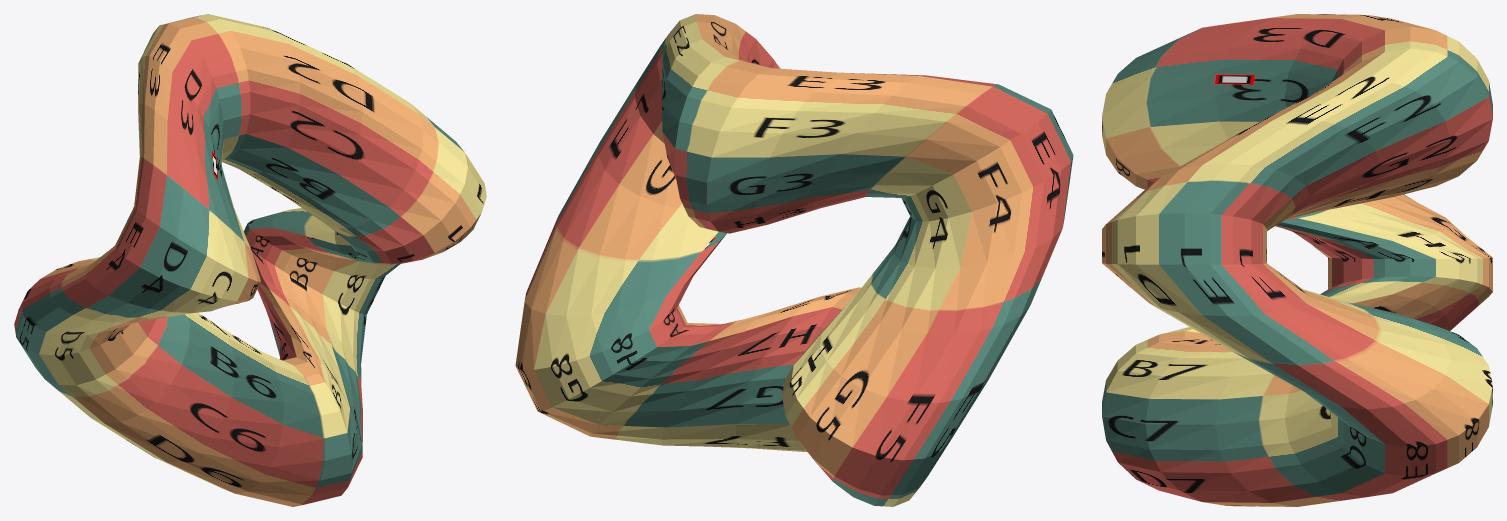
3 views of the same model, side by side, from view 1: azimuth 30°, elevation 25°; view 2: azimuth 150°, elevation 25°; view 3: azimuth 270°, elevation 25° (orthographic). The views are drawn at different scales.
Parts seen in each view (by area): view 1: Node-Mesh; view 2: Node-Mesh; view 3: Node-Mesh.
Part boxes in pixels (x1,y1,x2,y2): Node-Mesh: [14, 14, 486, 506]; Node-Mesh: [515, 14, 1073, 506]; Node-Mesh: [1102, 14, 1492, 506].
Bounding box in the file's own units: 3 × 2.98 × 2.37.
Materials: 1 (1 with a texture image).
